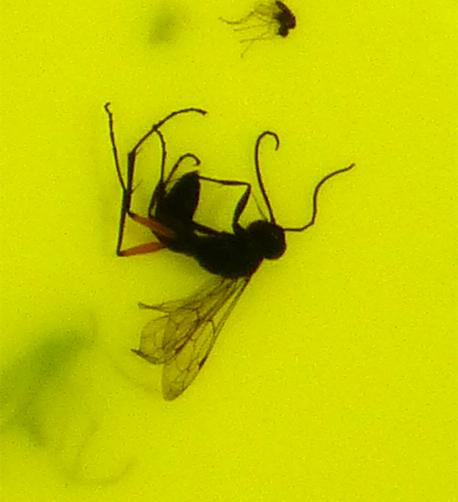Hymenoptera: (100, 100, 358, 402)
